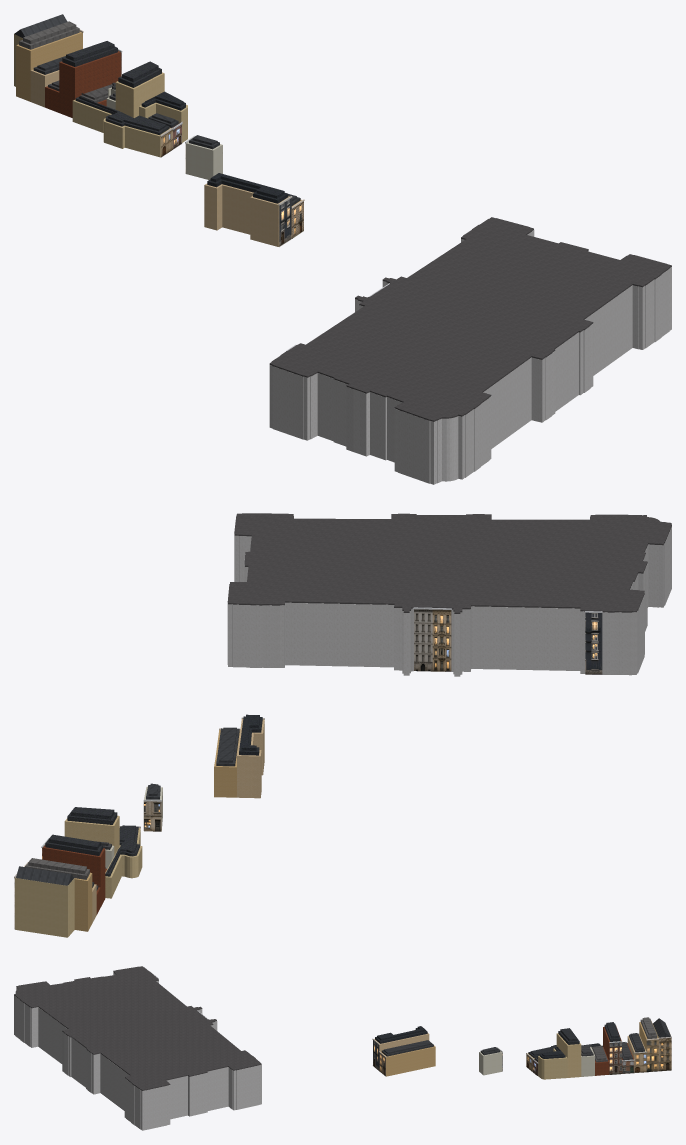
The picture shows the model from 3 angles, top to bottom: view 1: azimuth 30°, elevation 25°; view 2: azimuth 150°, elevation 25°; view 3: azimuth 270°, elevation 25°; orthographic projection. The views are drawn at different scales.
Parts seen in each view (by area): view 1: bldg_192642420_roof, bldg_192642420, bldg_497850270, bldg_499034644, bldg_498075405, bldg_499034640, bldg_499034648, bldg_497848733, bldg_498075407; view 2: bldg_192642420_roof, bldg_192642420, bldg_499034639, bldg_192642420_facade12, bldg_497850270, bldg_499034644, bldg_192642420_facade13, bldg_499034648, bldg_498075405, bldg_499034640, bldg_497850269, bldg_499034639_roof; view 3: bldg_192642420_roof, bldg_192642420, bldg_497850269, bldg_499034648, bldg_498075407, bldg_497848733, bldg_499034639_facade0, bldg_499034644_facade0, bldg_499034640_facade0, bldg_497850270, bldg_499034647, bldg_497850269_roof_b (+1 smaller).
Part boxes in pixels (bbox=[...]): bldg_192642420_roof: bbox=[269, 217, 671, 421]; bldg_192642420: bbox=[269, 230, 671, 484]; bldg_497850270: bbox=[204, 183, 289, 246]; bldg_499034644: bbox=[59, 51, 120, 117]; bldg_498075405: bbox=[72, 99, 170, 157]; bldg_499034640: bbox=[16, 31, 82, 101]; bldg_499034648: bbox=[115, 72, 164, 117]; bldg_497848733: bbox=[186, 142, 222, 179]; bldg_498075407: bbox=[139, 102, 187, 142]; bldg_192642420_roof: bbox=[227, 513, 671, 613]; bldg_192642420: bbox=[227, 516, 671, 676]; bldg_499034639: bbox=[15, 878, 74, 937]; bldg_192642420_facade12: bbox=[413, 607, 451, 671]; bldg_497850270: bbox=[237, 719, 264, 798]; bldg_499034644: bbox=[43, 845, 105, 906]; bldg_192642420_facade13: bbox=[585, 611, 602, 674]; bldg_499034648: bbox=[64, 815, 119, 855]; bldg_498075405: bbox=[105, 828, 142, 898]; bldg_499034640: bbox=[74, 872, 92, 931]; bldg_497850269: bbox=[214, 730, 240, 797]; bldg_499034639_roof: bbox=[16, 866, 73, 885]; bldg_192642420_roof: bbox=[14, 966, 261, 1090]; bldg_192642420: bbox=[14, 972, 261, 1130]; bldg_497850269: bbox=[380, 1045, 435, 1076]; bldg_499034648: bbox=[556, 1033, 581, 1077]; bldg_498075407: bbox=[538, 1048, 567, 1079]; bldg_497848733: bbox=[479, 1051, 501, 1075]; bldg_499034639_facade0: bbox=[659, 1036, 671, 1071]; bldg_499034644_facade0: bbox=[609, 1041, 622, 1074]; bldg_499034640_facade0: bbox=[646, 1038, 658, 1072]; bldg_497850270: bbox=[374, 1030, 429, 1051]; bldg_499034647: bbox=[581, 1046, 594, 1076]; bldg_497850269_roof_b: bbox=[383, 1040, 431, 1053].
Bounding box in the file's own units: 129 × 19.6 × 289.
Materials: 30 (16 with a texture image).
